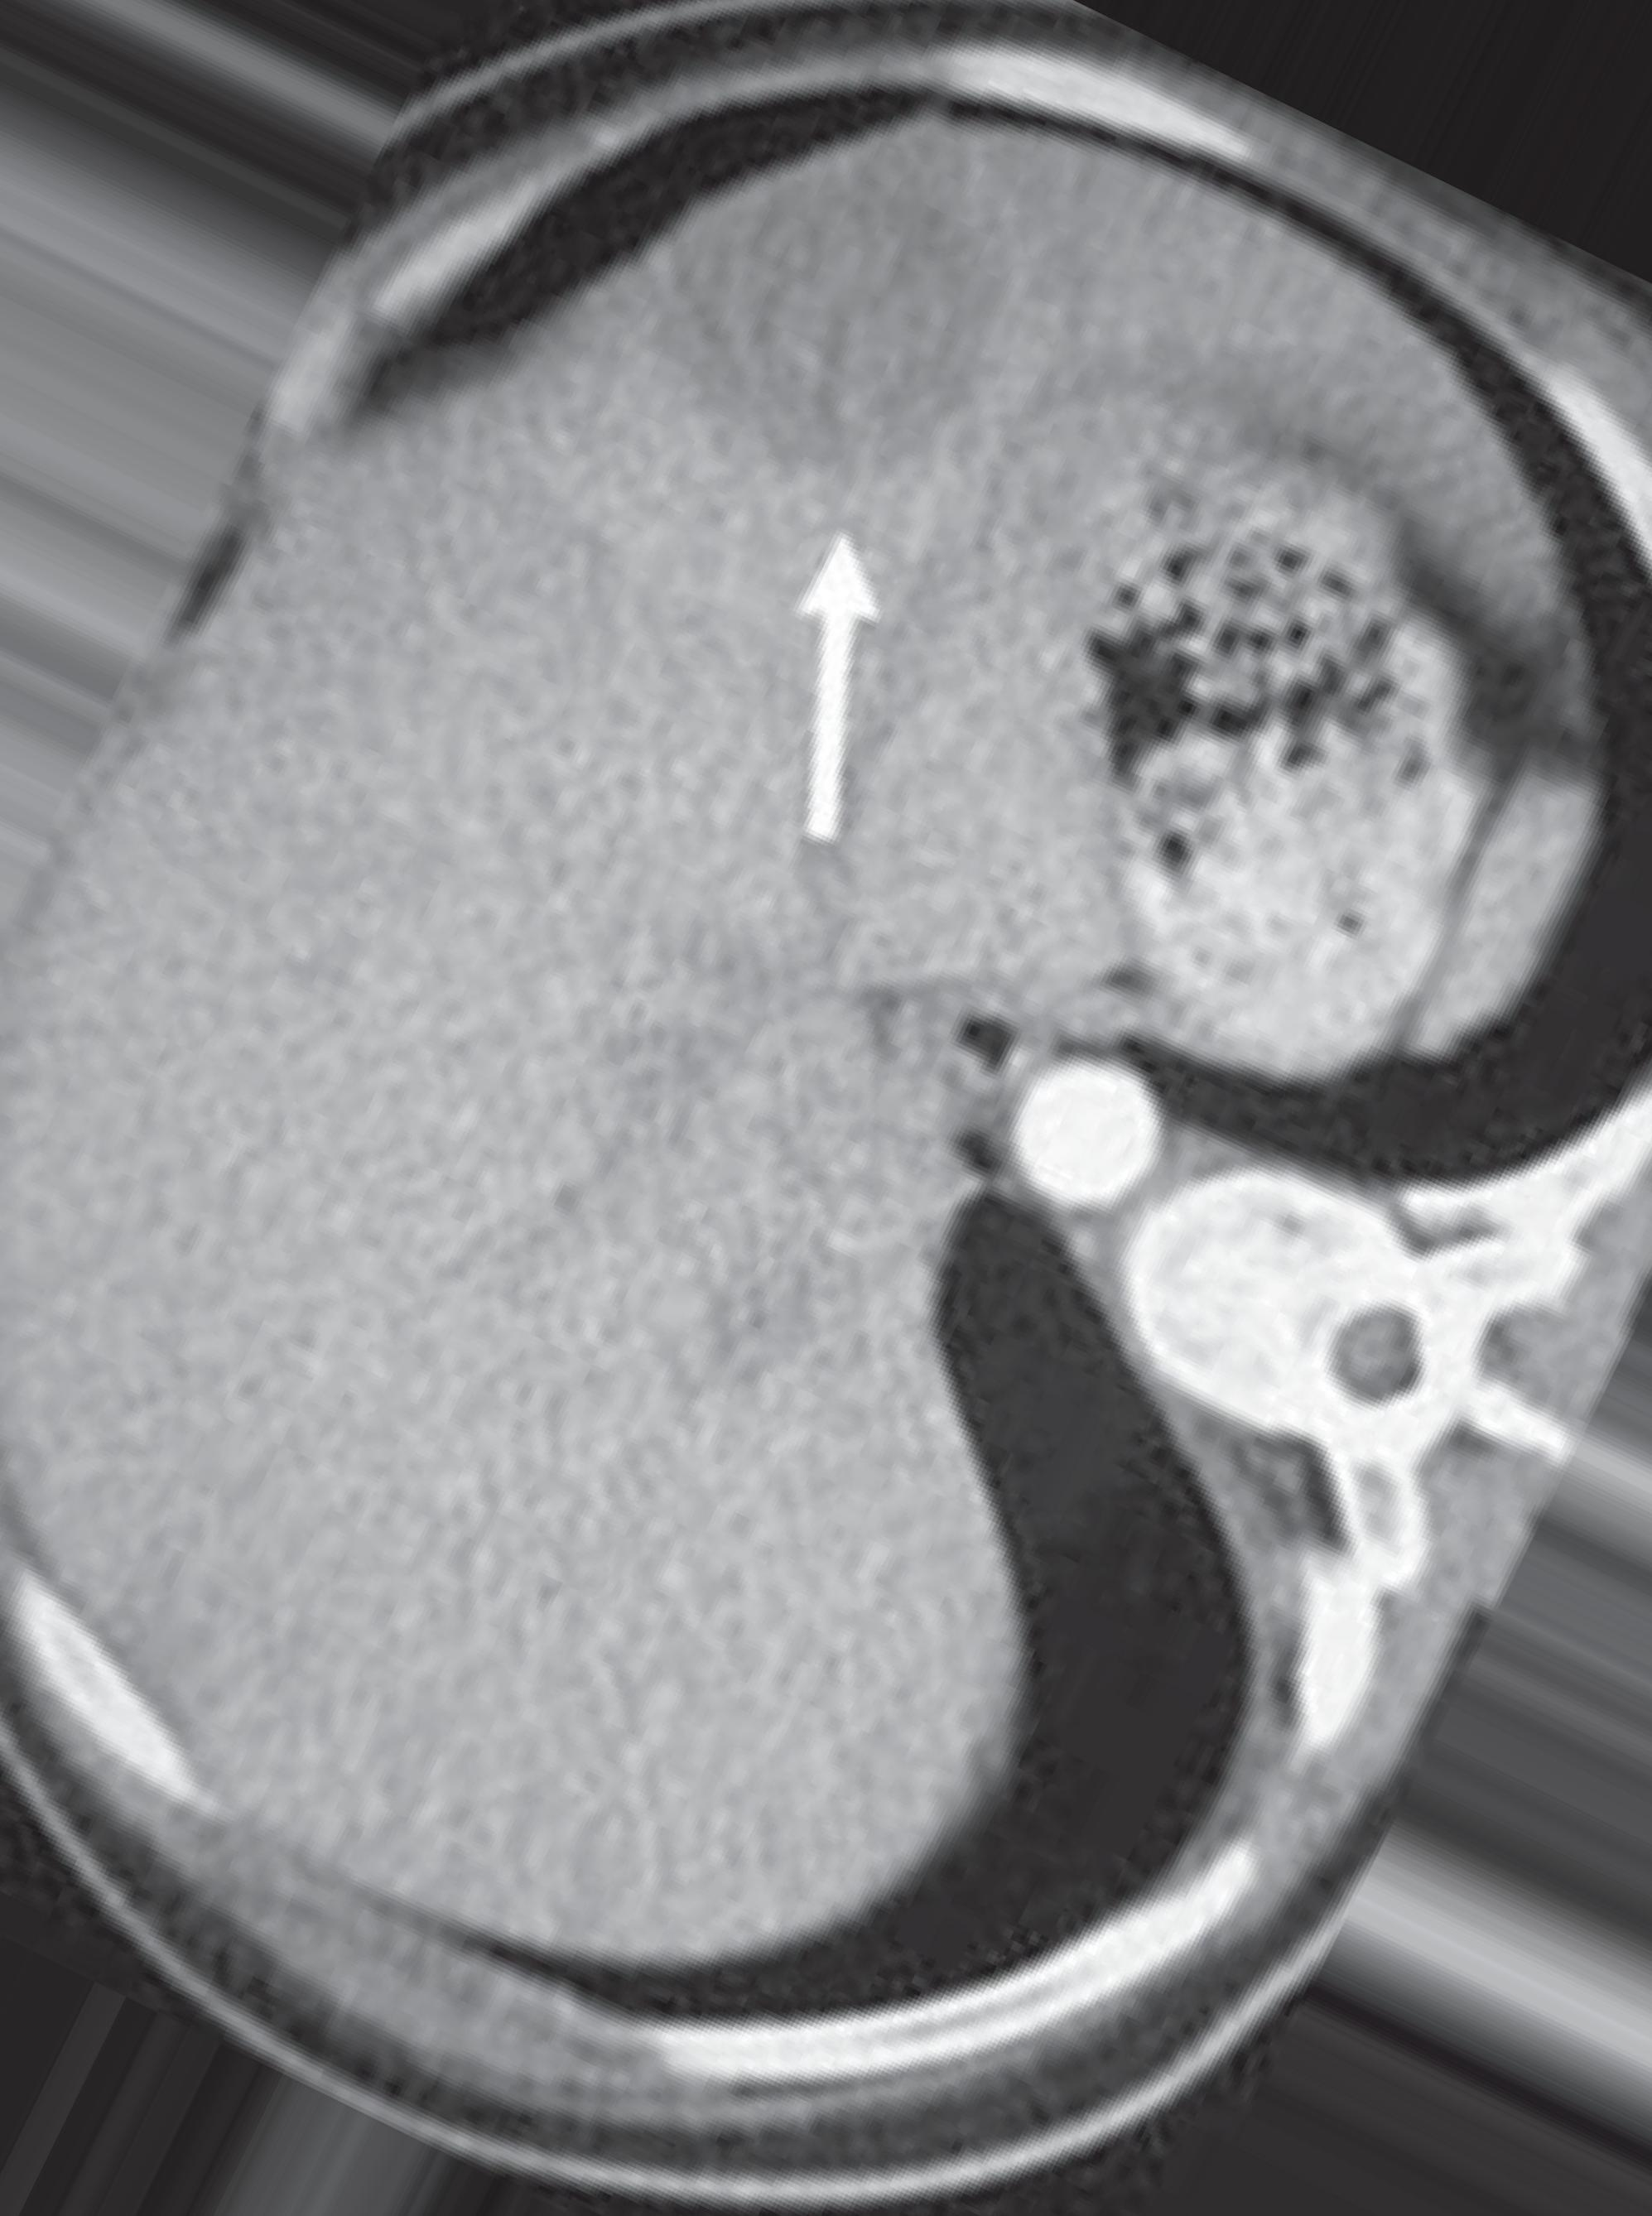anomaly: (635, 200, 1034, 474)
